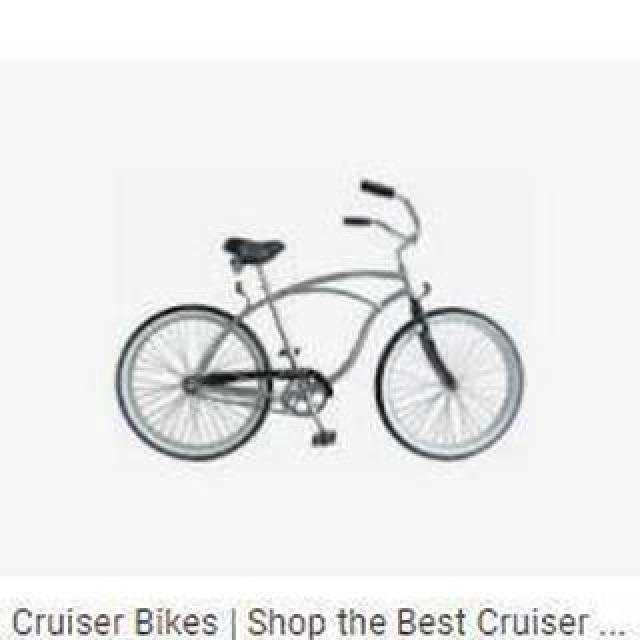Person: (117, 181, 525, 465)
